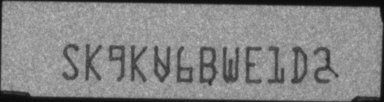1: (268, 44, 285, 83)
2: (313, 45, 332, 82)
6: (176, 45, 194, 83)
9: (107, 43, 125, 81)
B: (199, 45, 216, 83)
D: (290, 46, 309, 83)
E: (244, 45, 263, 83)
K: (85, 43, 103, 81), (130, 44, 147, 82)
S: (61, 43, 81, 80)
V: (153, 45, 172, 83)
W: (221, 45, 240, 82)
